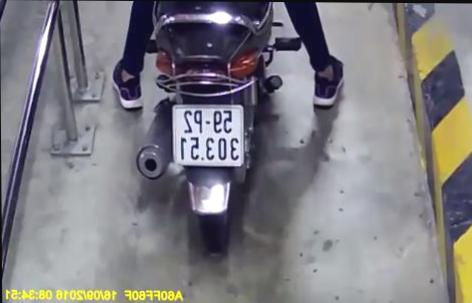License_Plate: (168, 100, 251, 174)
